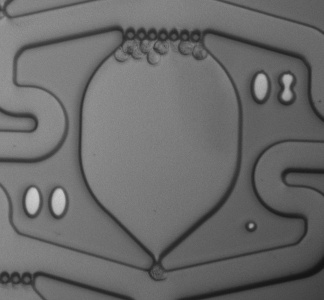AptNum: (245, 65, 305, 113)
Marker: (241, 216, 263, 237)
StNum: (15, 176, 79, 227)
Trap: (130, 257, 187, 300)
